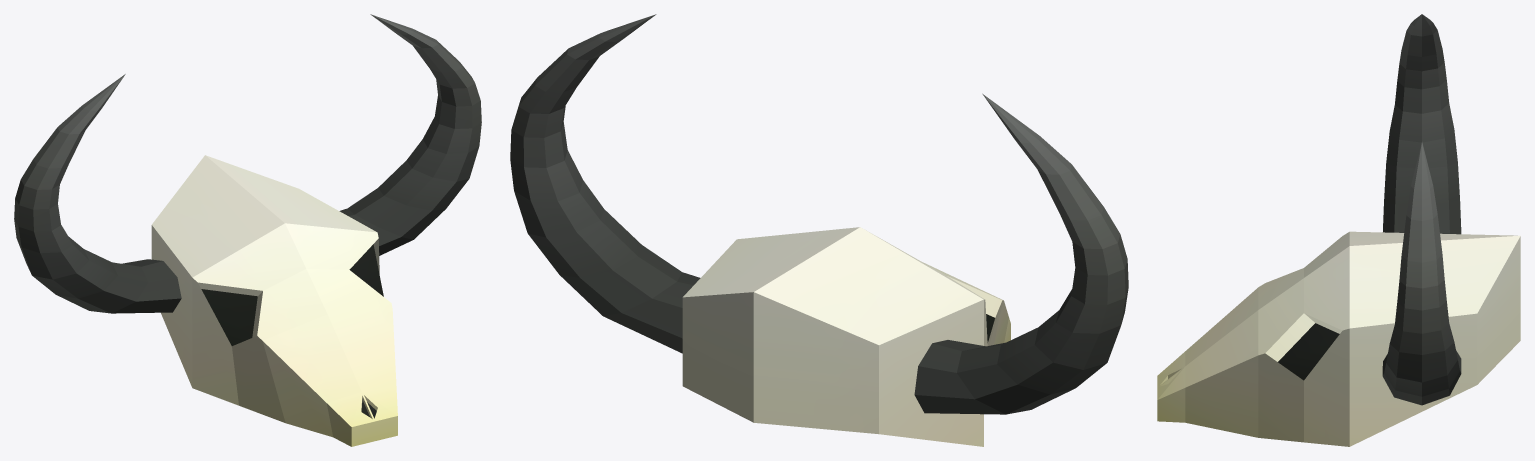
Rendered from Bone1.fbx.
3 views of the same model, side by side, from view 1: azimuth 30°, elevation 25°; view 2: azimuth 150°, elevation 25°; view 3: azimuth 270°, elevation 25° (orthographic). The views are drawn at different scales.
Visible parts, largest first — view 1: Huesos-Craneo; view 2: Huesos-Craneo; view 3: Huesos-Craneo.
Part boxes in pixels (x1,y1,x2,y2): Huesos-Craneo: (14,14,481,446); Huesos-Craneo: (510,14,1128,446); Huesos-Craneo: (1157,14,1520,446).
Bounding box in the file's own units: 1.86 × 1.22 × 1.19.
Materials: 1 (1 with a texture image).
